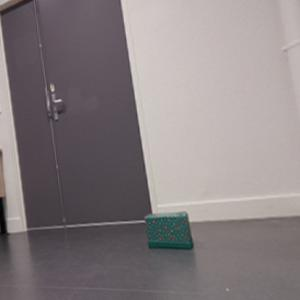small: (143, 211, 197, 252)
